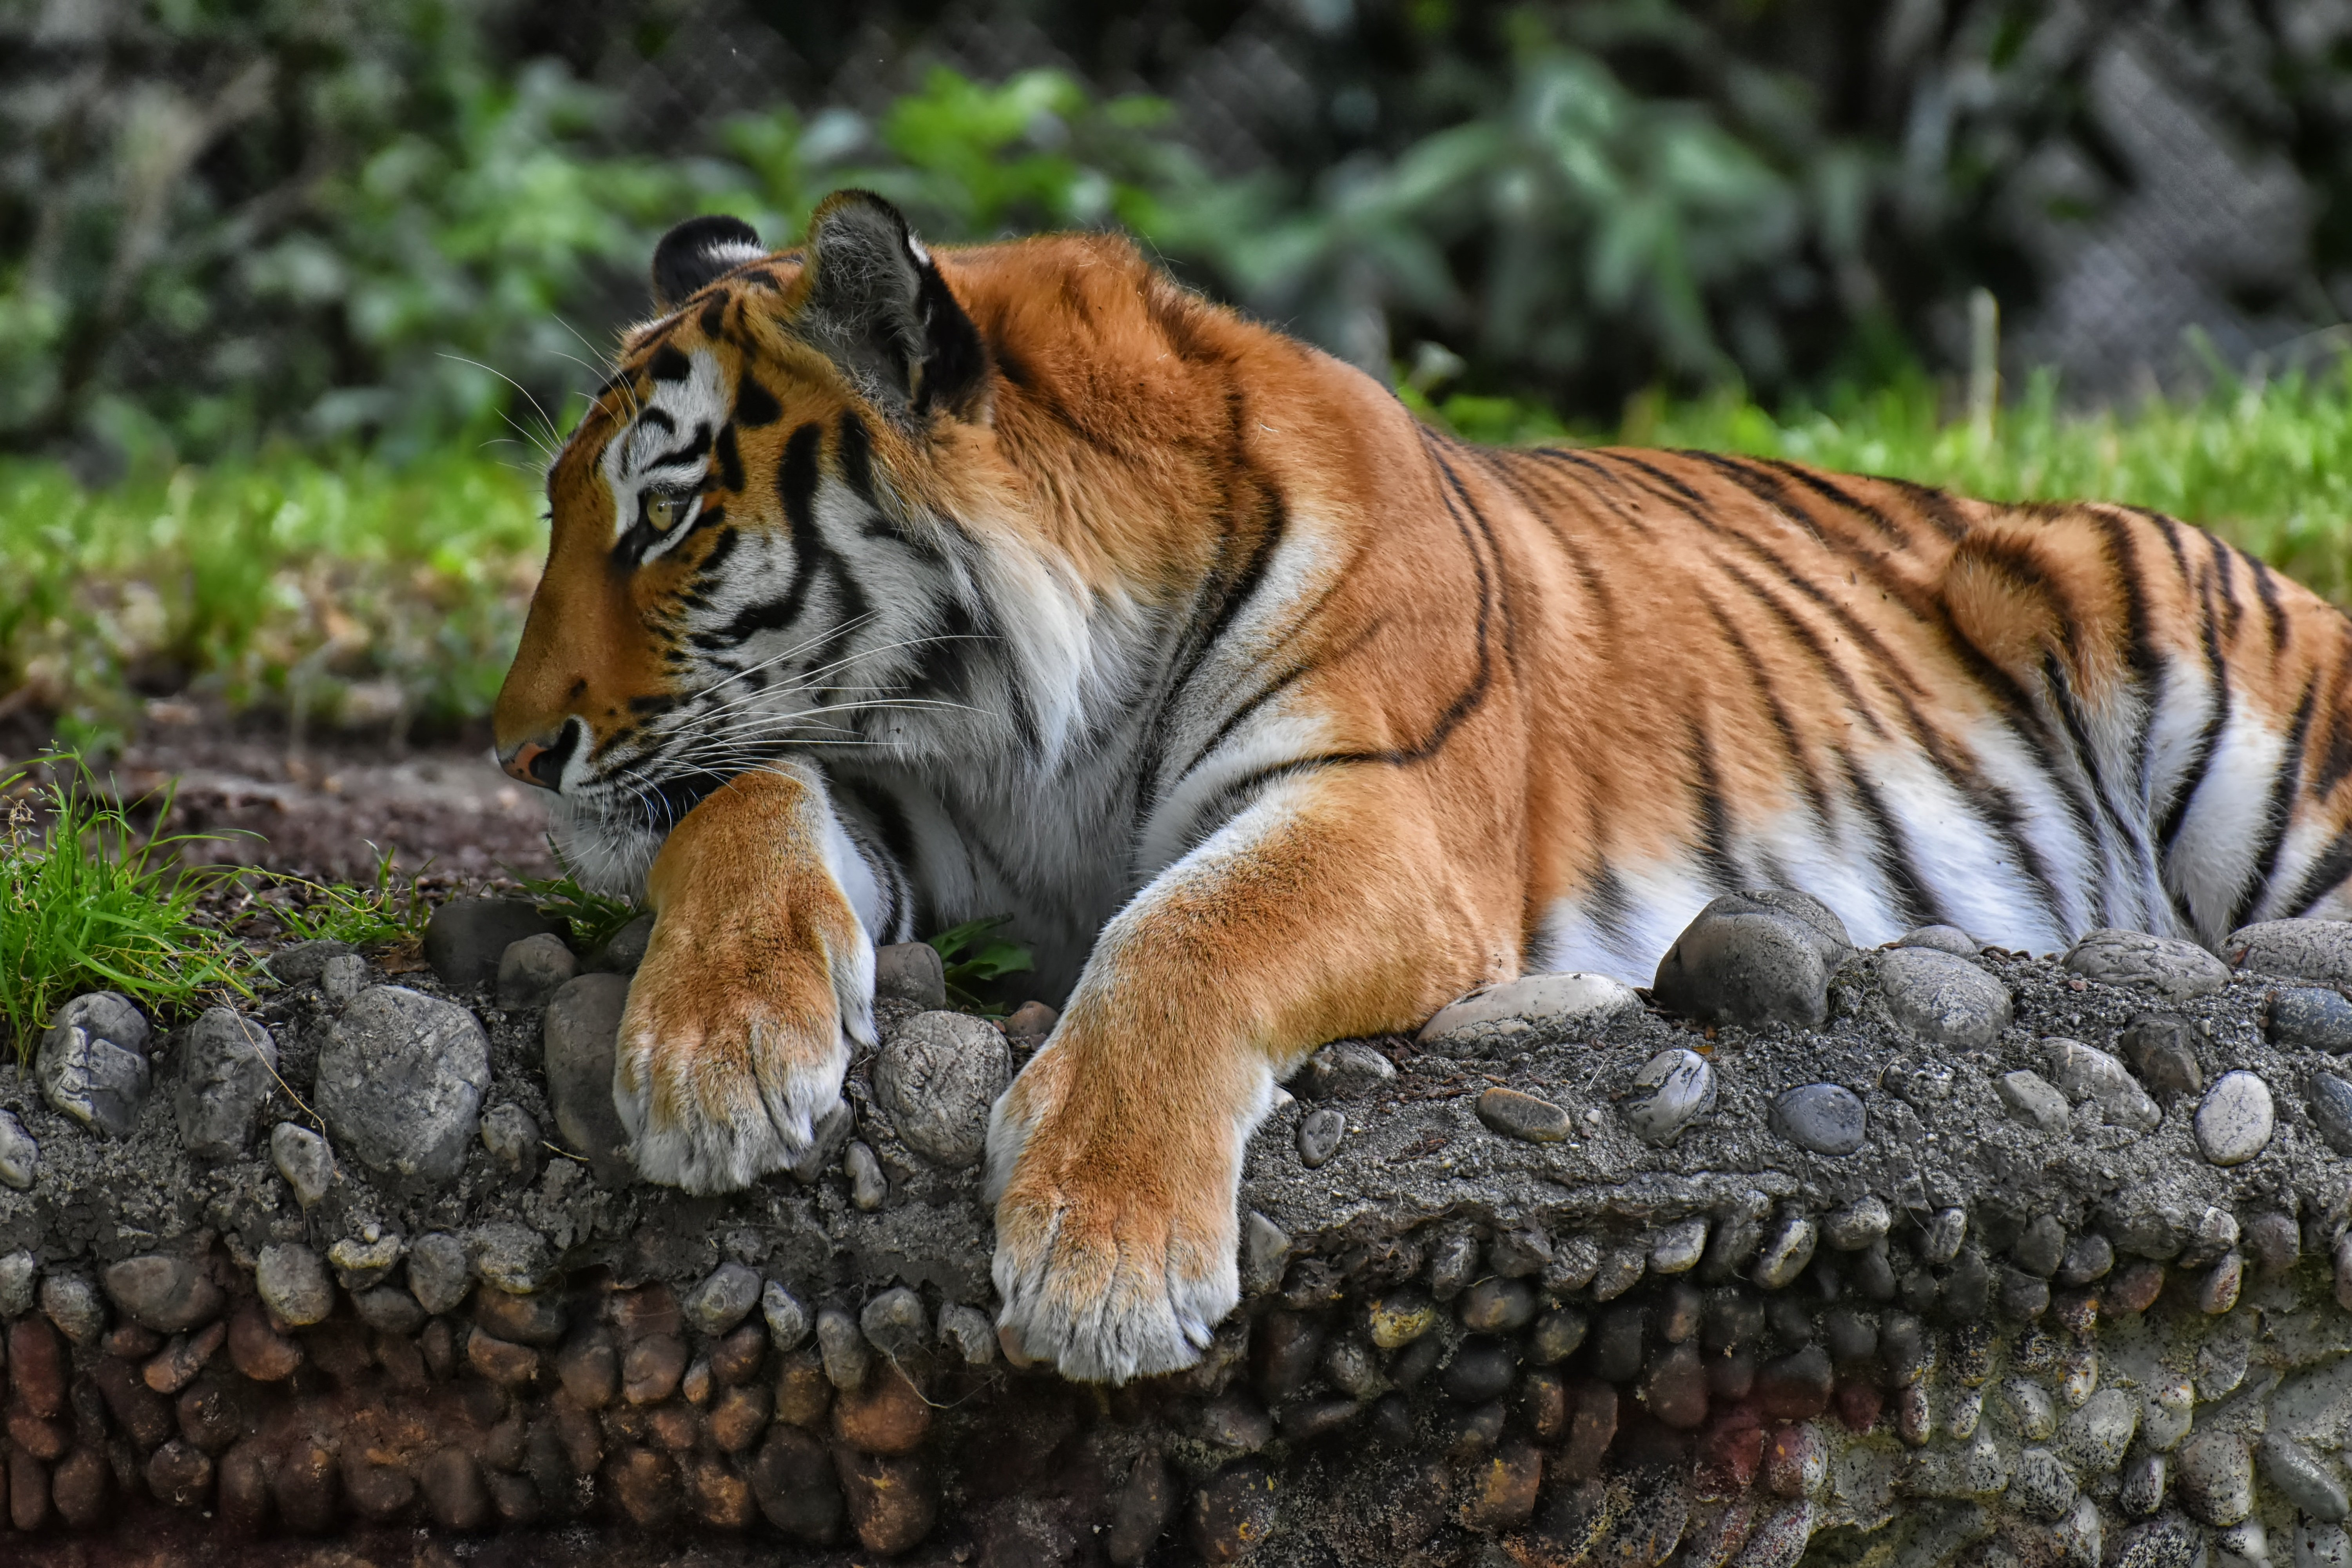tiger: (460, 199, 2229, 1134)
